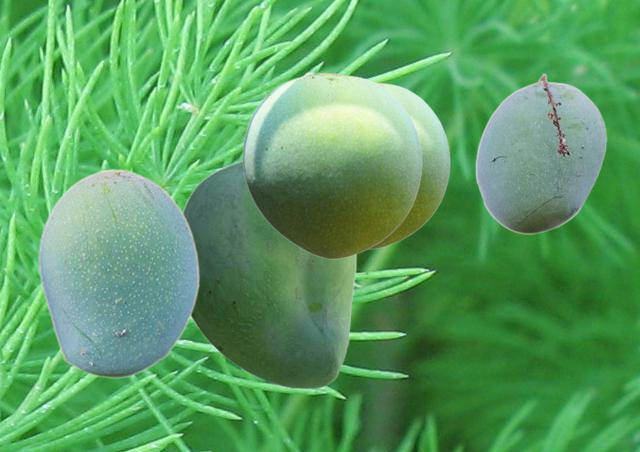green_mango: (181, 160, 356, 388), (37, 168, 199, 378), (242, 71, 421, 258), (475, 73, 606, 233), (372, 79, 449, 248)
